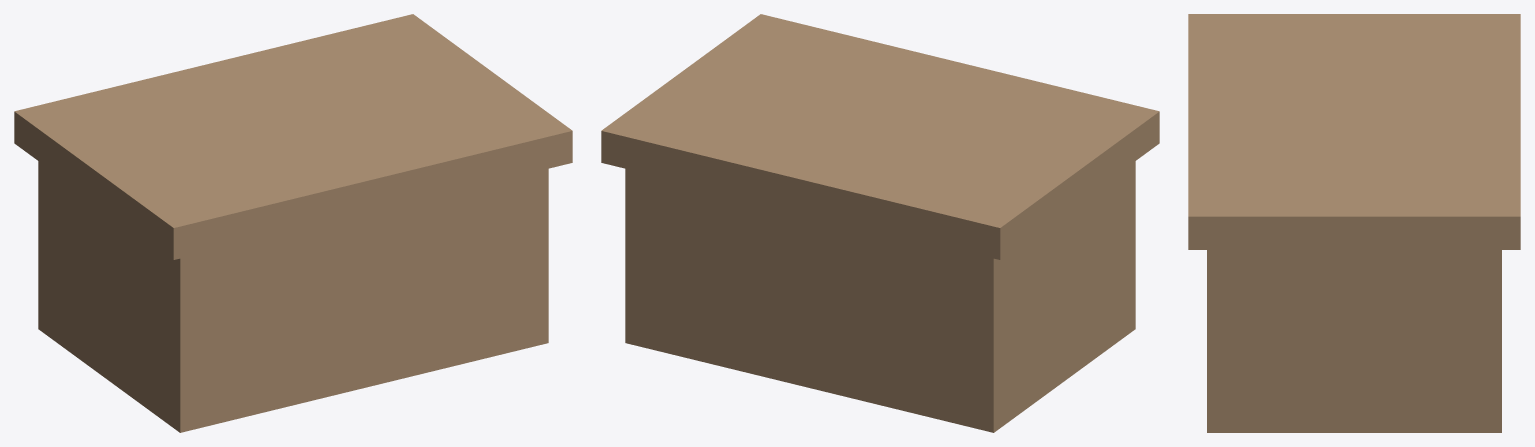
Rendered from fishing_basket.glb.
The picture shows the model from 3 angles, left to right: view 1: azimuth 30°, elevation 25°; view 2: azimuth 150°, elevation 25°; view 3: azimuth 270°, elevation 25°; orthographic projection. The views are drawn at different scales.
Parts seen in each view (by area): view 1: basket, basketrim; view 2: basket, basketrim; view 3: basketrim, basket.
Part boxes in pixels (left/top/right/bottom): basket: left=38, top=161, right=548, bottom=432; basketrim: left=14, top=14, right=572, bottom=259; basket: left=625, top=161, right=1135, bottom=432; basketrim: left=601, top=14, right=1159, bottom=259; basketrim: left=1188, top=14, right=1520, bottom=249; basket: left=1207, top=250, right=1501, bottom=432.
Size of the model in its own units: 1.3 by 0.6696 by 0.9004.
